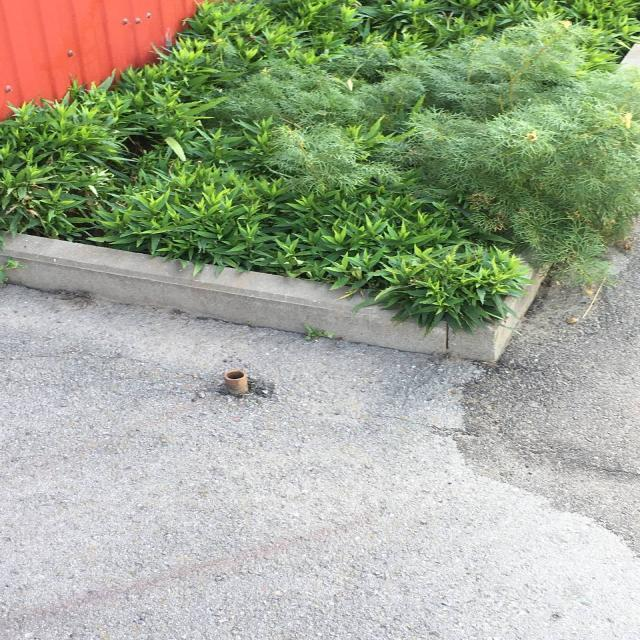bump: (1, 226, 278, 362)
